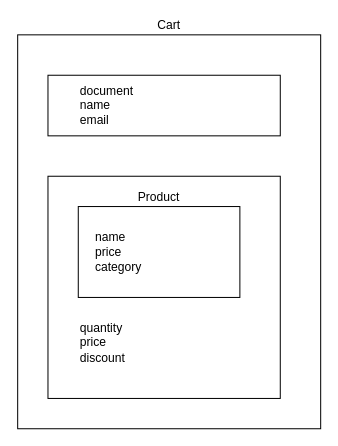
Image size: 338x446. Some labels were removed from this diagram. Here are the shapes that lost their labels. From the top down, the box of each, then its label:
(47, 74, 280, 136): Customer
(47, 175, 280, 398): Cart Item
